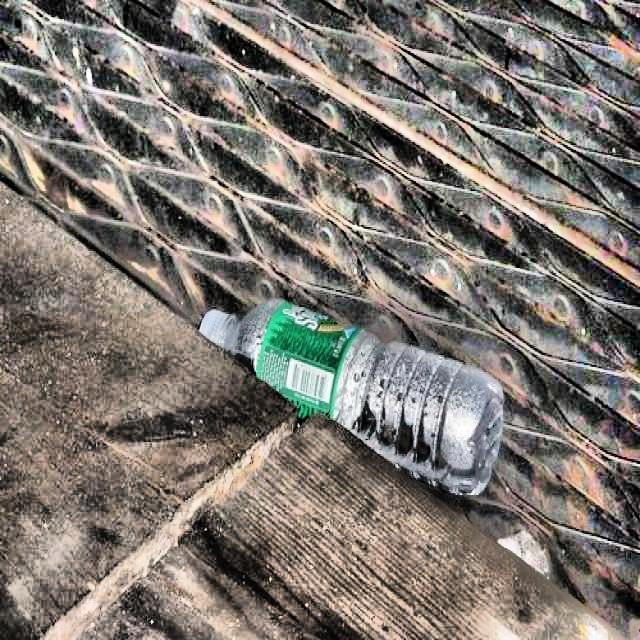plastic bottle: (200, 301, 504, 496)
